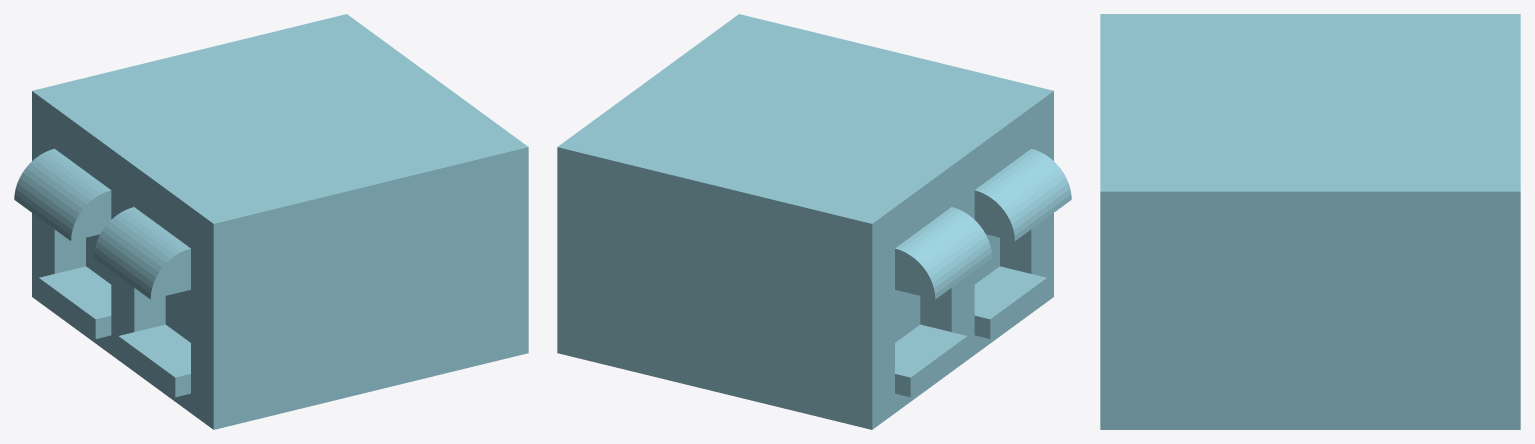
Rendered from modularbuildings_033.glb.
3 renders of one model, left to right at view 1: azimuth 30°, elevation 25°; view 2: azimuth 150°, elevation 25°; view 3: azimuth 270°, elevation 25°, orthographic. The views are drawn at different scales.
Visible parts, largest first — view 1: Mesh1 Group1 Model; view 2: Mesh1 Group1 Model; view 3: Mesh1 Group1 Model.
Boxes of the visible parts, x1,y1,x2,y2 form: Mesh1 Group1 Model: (14,14,528,429); Mesh1 Group1 Model: (557,14,1071,429); Mesh1 Group1 Model: (1100,14,1520,429).
Size of the model in its own units: 1.13 by 0.625 by 1.
